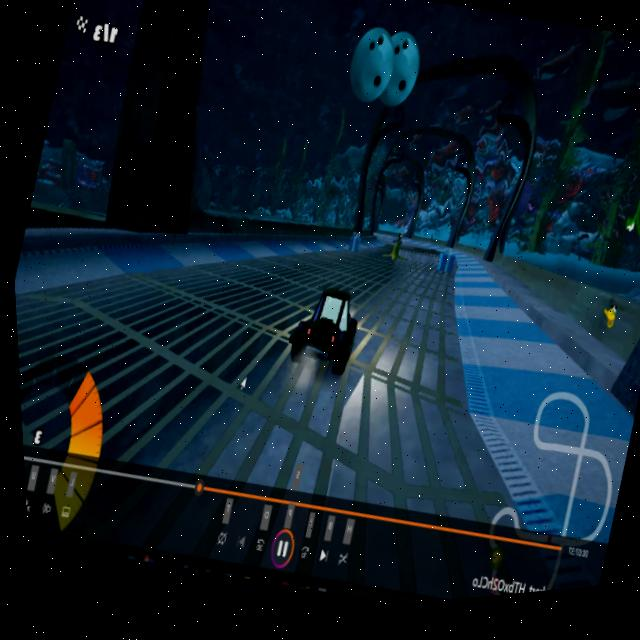bonus: (428, 254, 457, 286), (343, 234, 362, 259)
obstacle: (376, 243, 404, 280)
player_kart: (276, 283, 367, 384)
